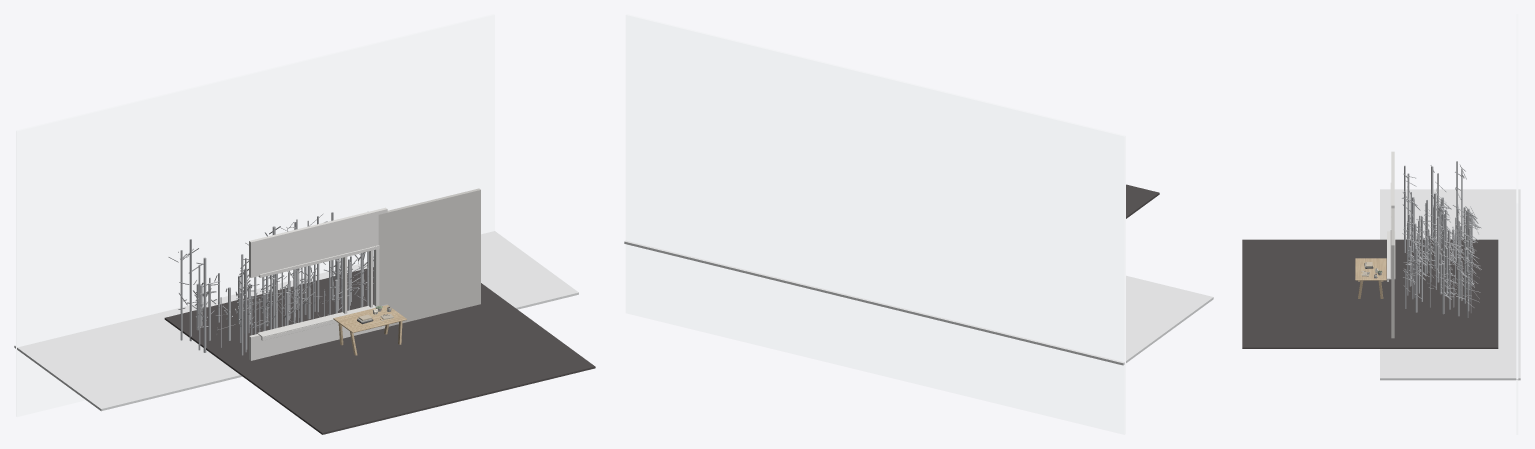
File: viga.glb
3 views of the same model, side by side, from view 1: azimuth 30°, elevation 25°; view 2: azimuth 150°, elevation 25°; view 3: azimuth 270°, elevation 25° (orthographic). The views are drawn at different scales.
Visible parts, largest first — view 1: sky_backdrop, floor, snow_ground, wall_right, wall_above, wall_below, desk_top, sill; view 2: sky_backdrop, snow_ground, floor; view 3: floor, snow_ground, sky_backdrop, desk_top, wall_right, sill.
Boxes of the visible parts, box(x1,y1,x2,y2) form: sky_backdrop: box(16, 14, 494, 416); floor: box(164, 267, 595, 434); snow_ground: box(14, 231, 578, 411); wall_right: box(378, 188, 480, 326); wall_above: box(249, 207, 387, 277); wall_below: box(249, 304, 387, 360); desk_top: box(333, 305, 406, 333); sill: box(257, 304, 375, 337); sky_backdrop: box(625, 14, 1125, 434); snow_ground: box(624, 240, 1213, 365); floor: box(1126, 184, 1159, 218); floor: box(1242, 239, 1498, 348); snow_ground: box(1380, 189, 1520, 380); sky_backdrop: box(1516, 14, 1518, 434); desk_top: box(1355, 258, 1386, 280); wall_right: box(1391, 208, 1394, 338); sill: box(1387, 231, 1395, 279).
Size of the model in its own units: 14 by 8 by 8.7.
Materials: 31 (6 with a texture image).
